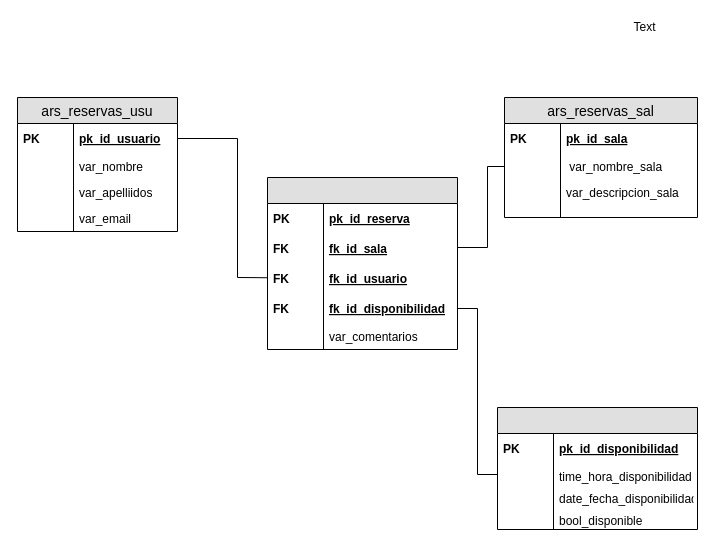
This 715x549 diagram has some shape labels left out. Here are the shapes that lost their labels. From the top down, the box of each, then its label:
(266, 176, 458, 350): ars_reservas
(496, 406, 698, 530): ars_reservas_disp
